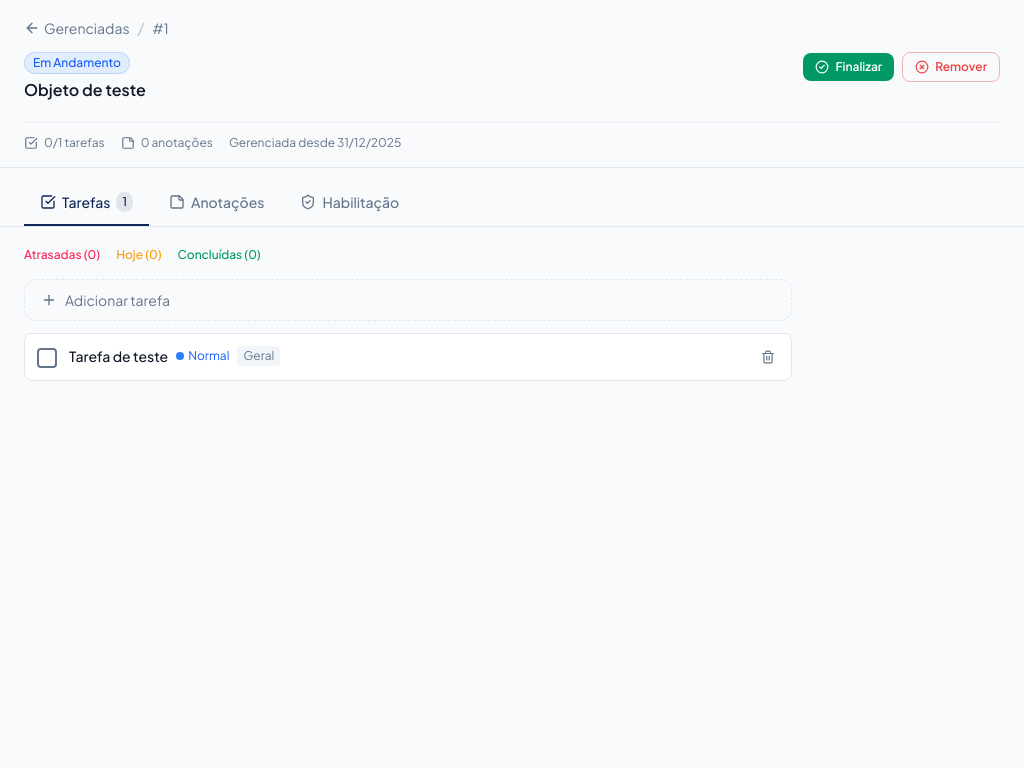
Test case: GerenciamentoDetalhe – deleteTarefa onError toast › shows 'Sessão expirada' toast when DELETE tarefas/:id returns 401
Check: the text "Tarefa de teste" is shown, box [69,346,168,366]
What coordinates should you click on to do the following:
click the button named "Excluir tarefa"
I would click on:
 (768, 357)
Its box is [757,346,779,368].
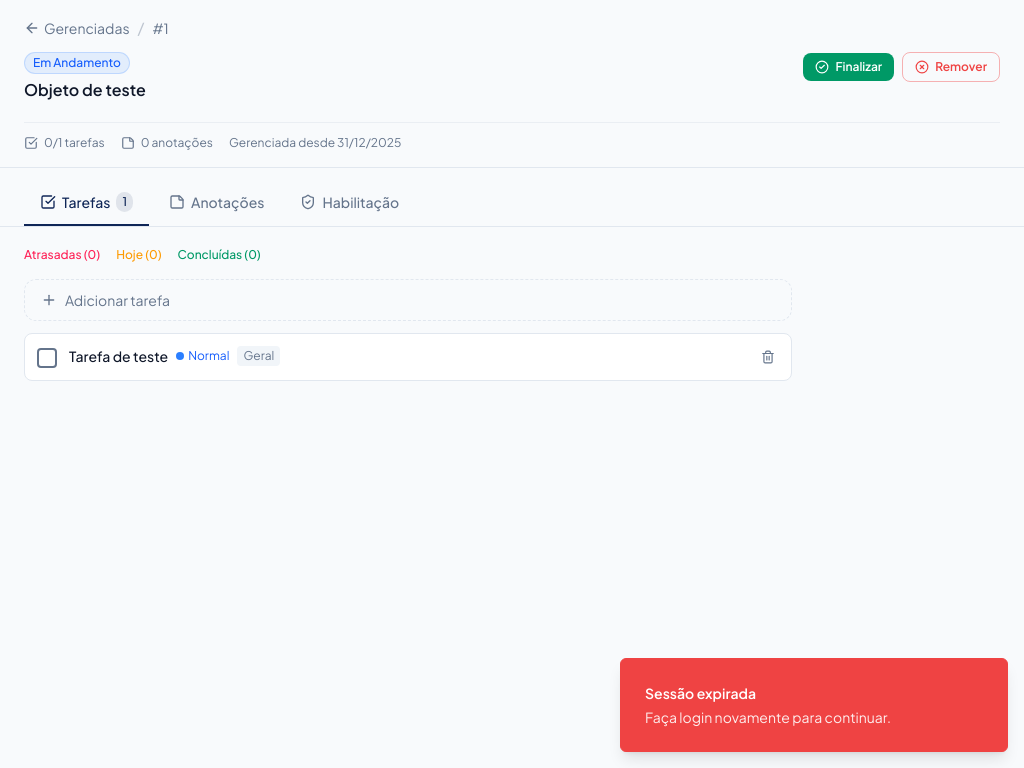
Check: the text "Sessão expirada" is shown, box [645,684,756,702]
Check: the text "Faça login novamente para continuar." is shown, box [645,707,891,727]
